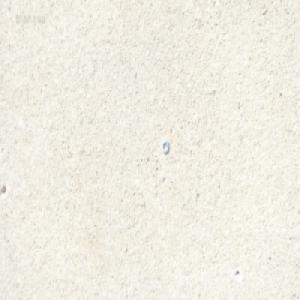Washer: (162, 141, 169, 156)
